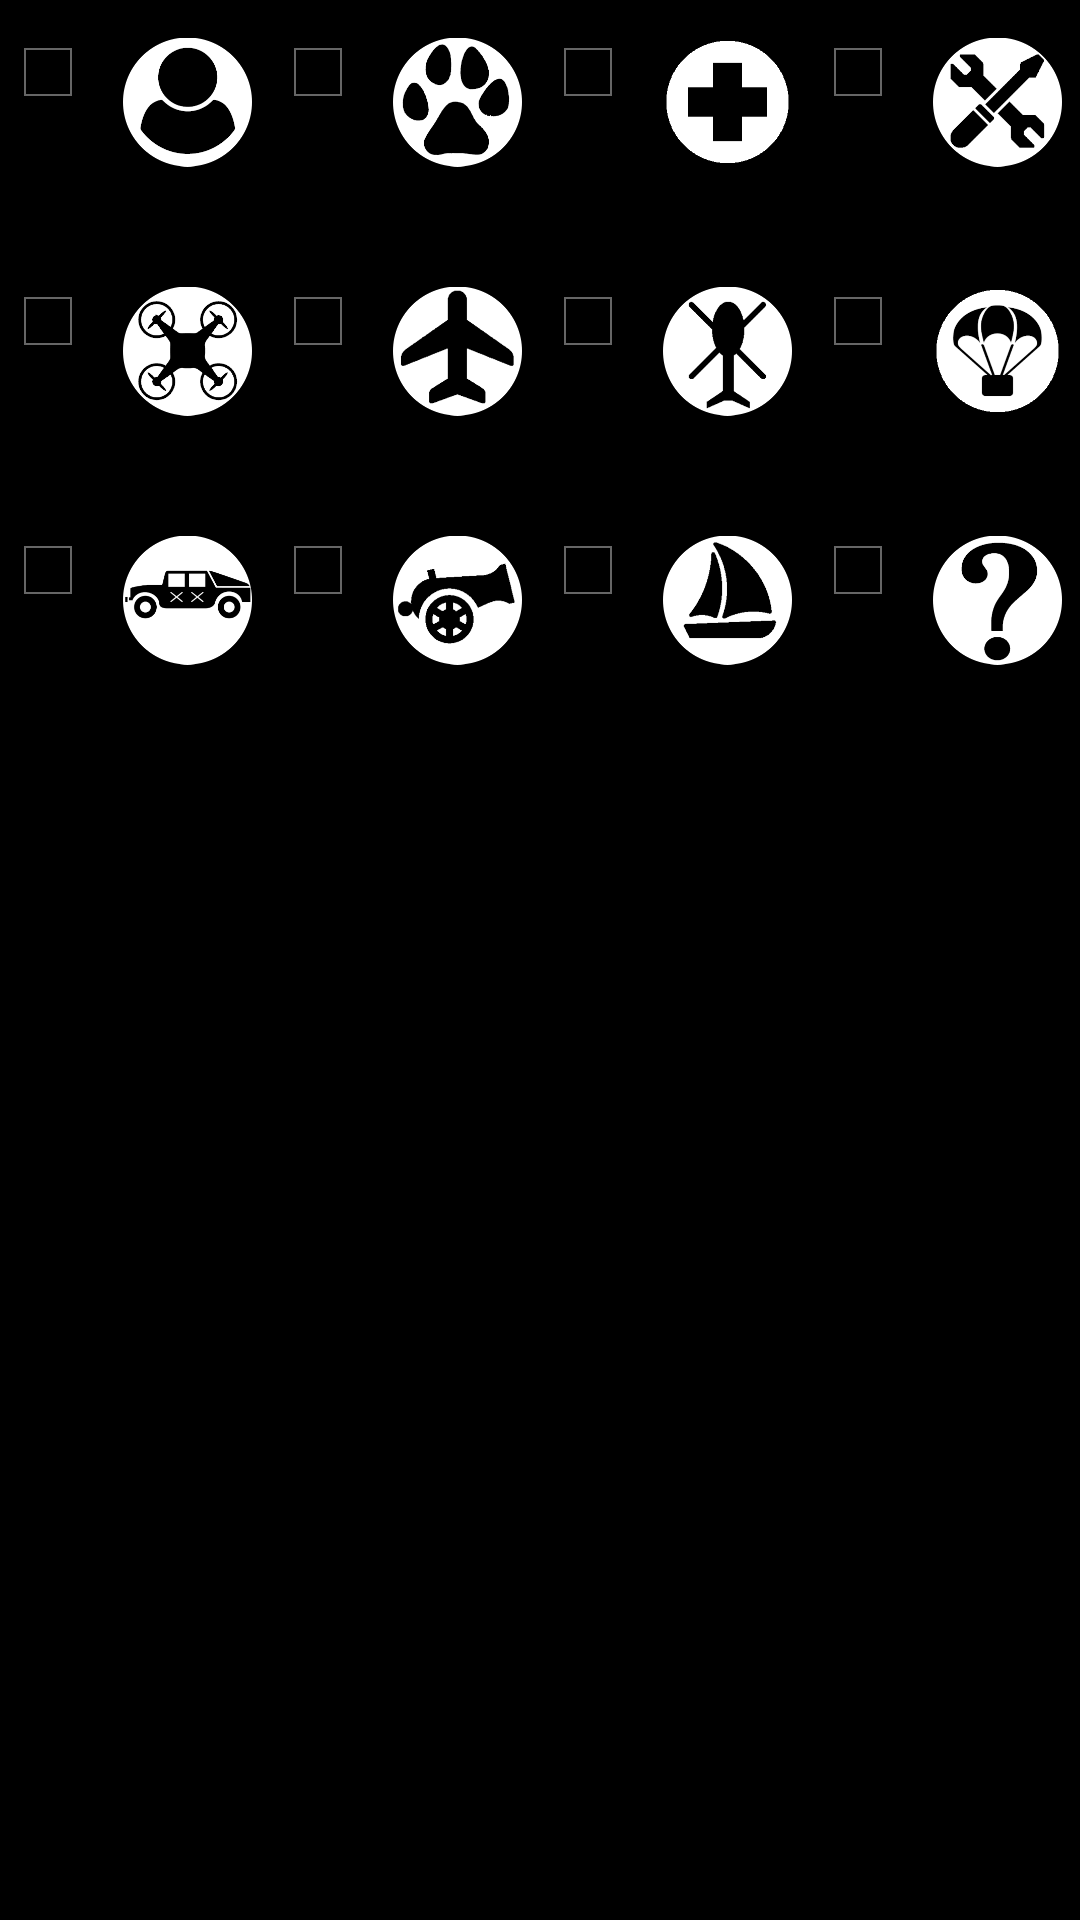

Screen size 1080 × 1920. Icon name, then its center in pixels as point (x, y):
track boat: point (727, 600)
track bundle: point (997, 351)
track custom: point (997, 600)
track equipment: point (997, 102)
track fixed: point (457, 351)
track hound: point (457, 102)
track medical: point (727, 102)
track pax: point (187, 102)
track rotary: point (727, 351)
track uas: point (187, 351)
track veh: point (187, 600)
track weapon: point (457, 600)
